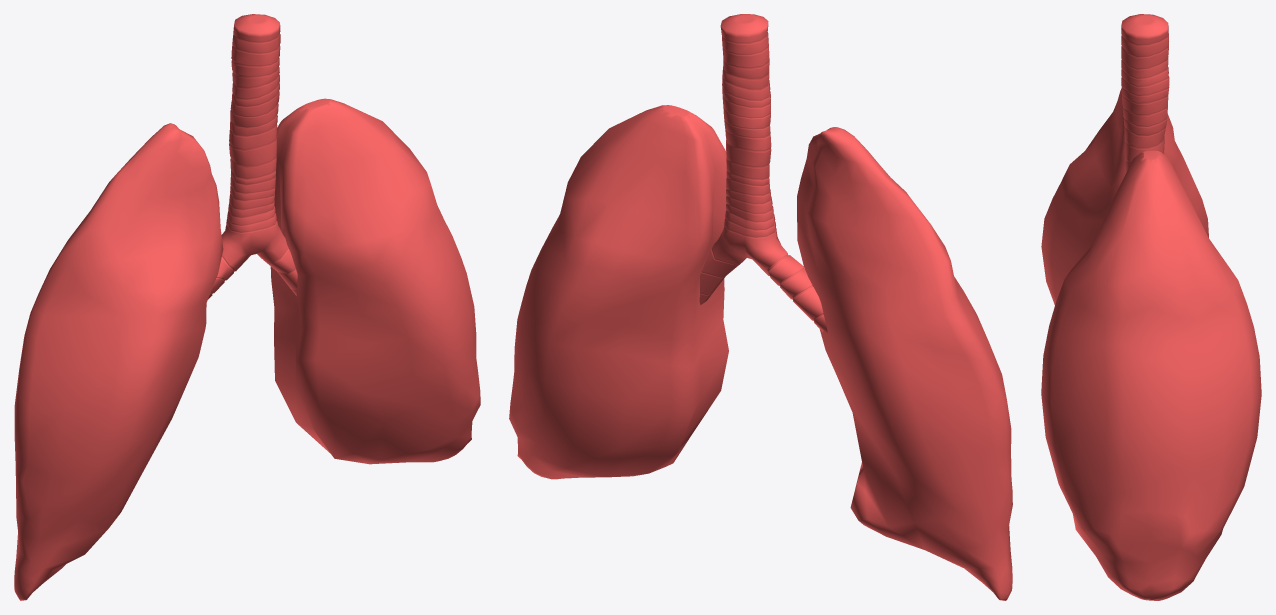
File: lungs.fbx
3 renders of one model, left to right at view 1: azimuth 30°, elevation 25°; view 2: azimuth 150°, elevation 25°; view 3: azimuth 270°, elevation 25°, orthographic. The views are drawn at different scales.
Parts seen in each view (by area): view 1: LungAnim; view 2: LungAnim; view 3: LungAnim.
Part boxes in pixels (left/top/right/bottom): LungAnim: left=14, top=14, right=480, bottom=600; LungAnim: left=509, top=14, right=1012, bottom=600; LungAnim: left=1041, top=14, right=1261, bottom=600.
Size of the model in its own units: 4.41 by 4.7 by 1.81.
